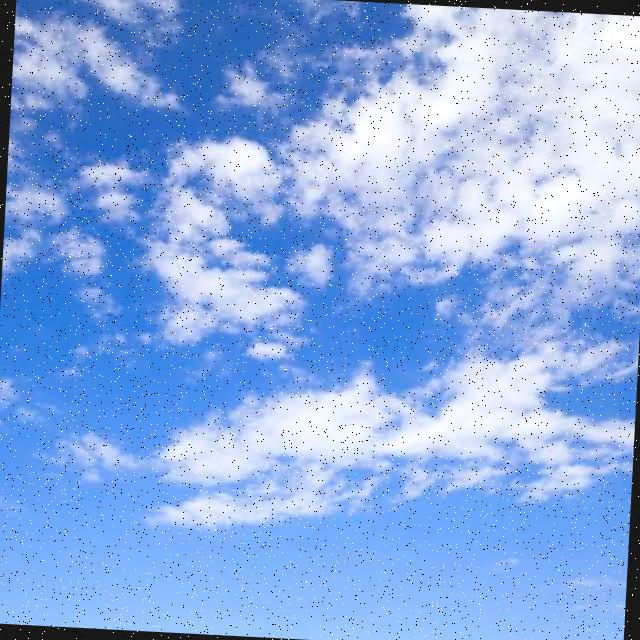Ac: (1, 1, 640, 544)
